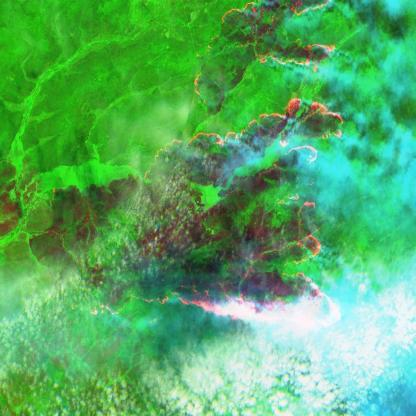fire: (129, 93, 346, 337), (219, 0, 337, 76)
